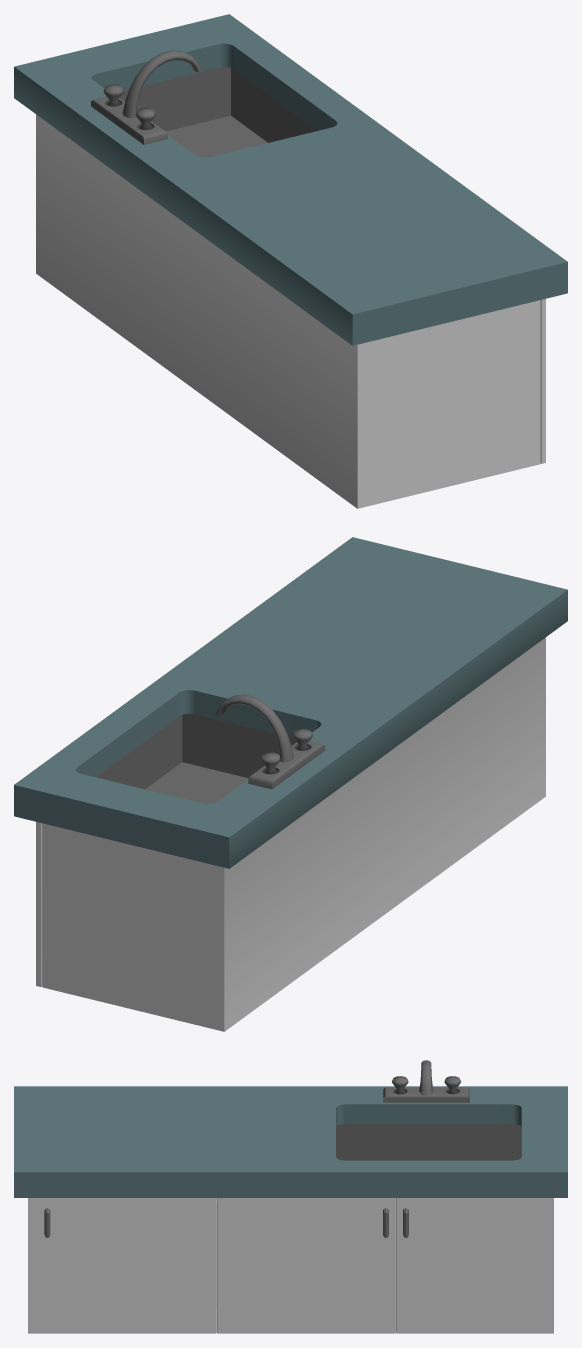
Rendered from lab_counter_w_sink_uv_wrapped_no_textures.glb.
3 views of the same model, one above another, from view 1: azimuth 30°, elevation 25°; view 2: azimuth 150°, elevation 25°; view 3: azimuth 270°, elevation 25° (orthographic). The views are drawn at different scales.
Visible parts, largest first — view 1: pasted__pCube2, pCube3, pTorus1; view 2: pasted__pCube2, pCube3, pTorus1; view 3: pasted__pCube2, pCube3, pTorus1.
Boxes of the visible parts, <box> form: pasted__pCube2: <box>14,14,567,508</box>; pCube3: <box>91,96,167,144</box>; pTorus1: <box>122,50,200,118</box>; pasted__pCube2: <box>14,537,567,1031</box>; pCube3: <box>248,741,325,789</box>; pTorus1: <box>215,694,293,762</box>; pasted__pCube2: <box>14,1086,567,1333</box>; pCube3: <box>383,1087,469,1102</box>; pTorus1: <box>419,1060,433,1095</box>.
Bounding box in the file's own units: 0.4796 × 0.5637 × 1.31.
